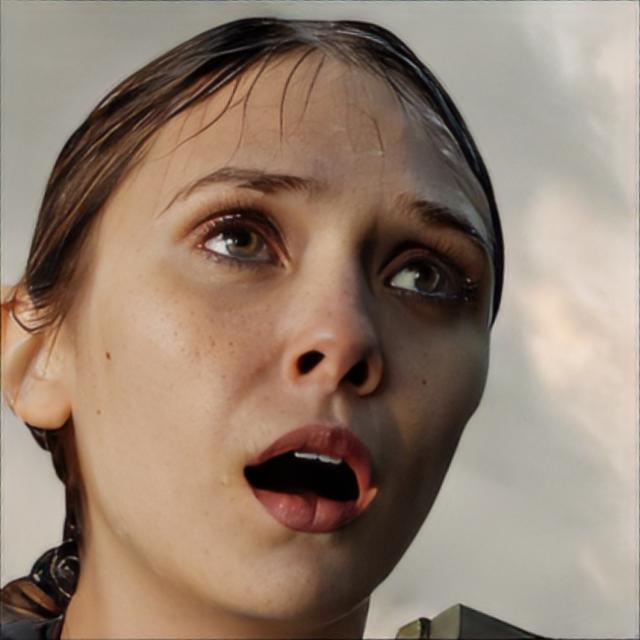Fear: (72, 52, 495, 624)
